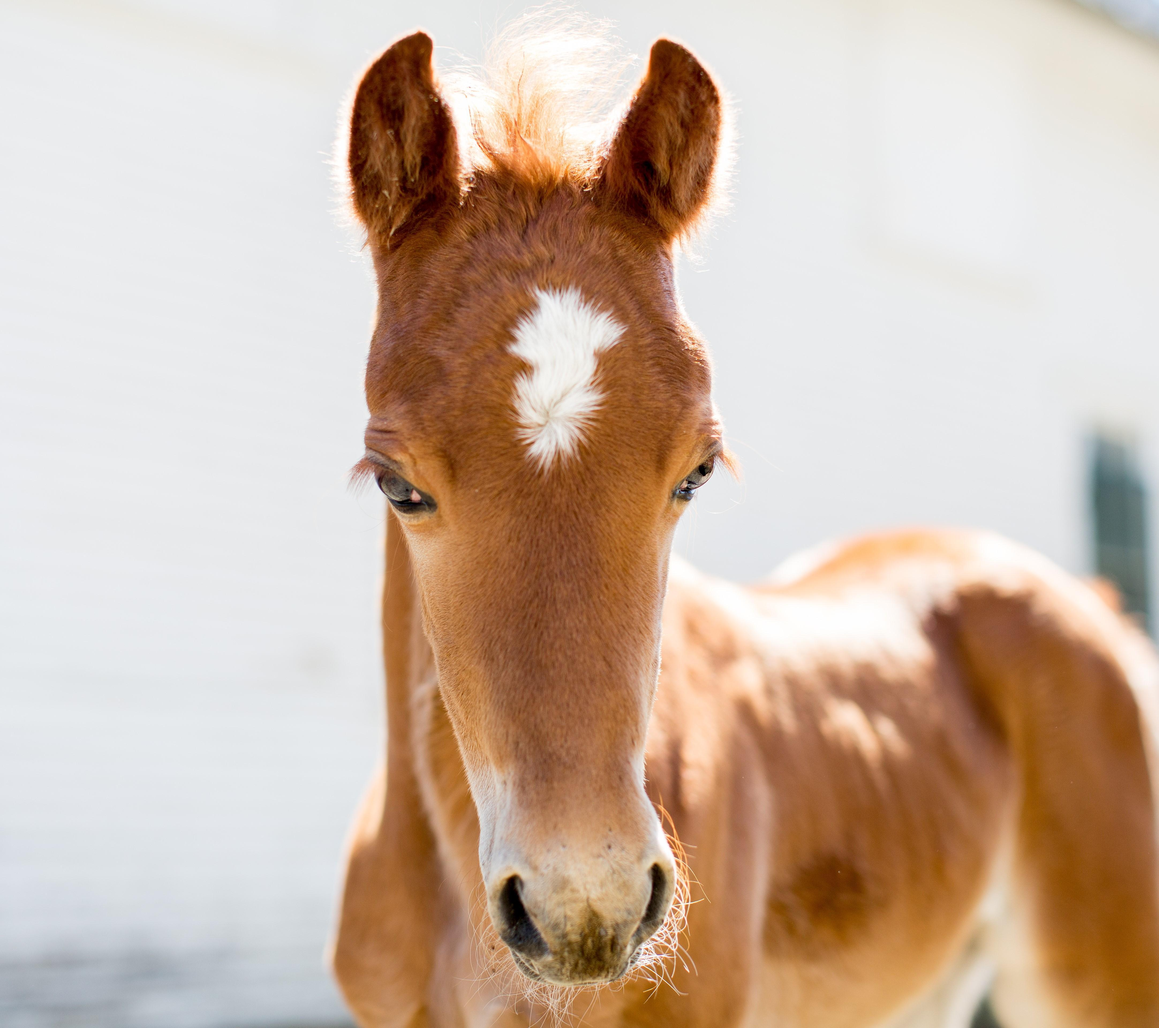horse: (316, 20, 1159, 1028)
